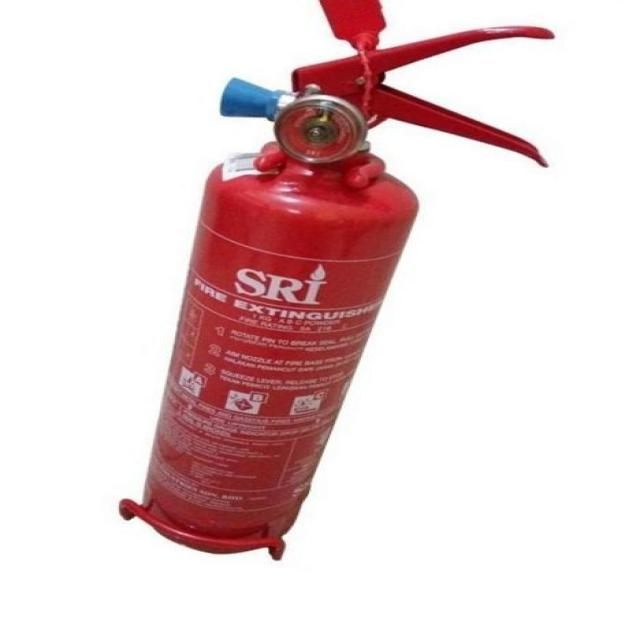fire_extinguisher: (131, 0, 574, 557)
